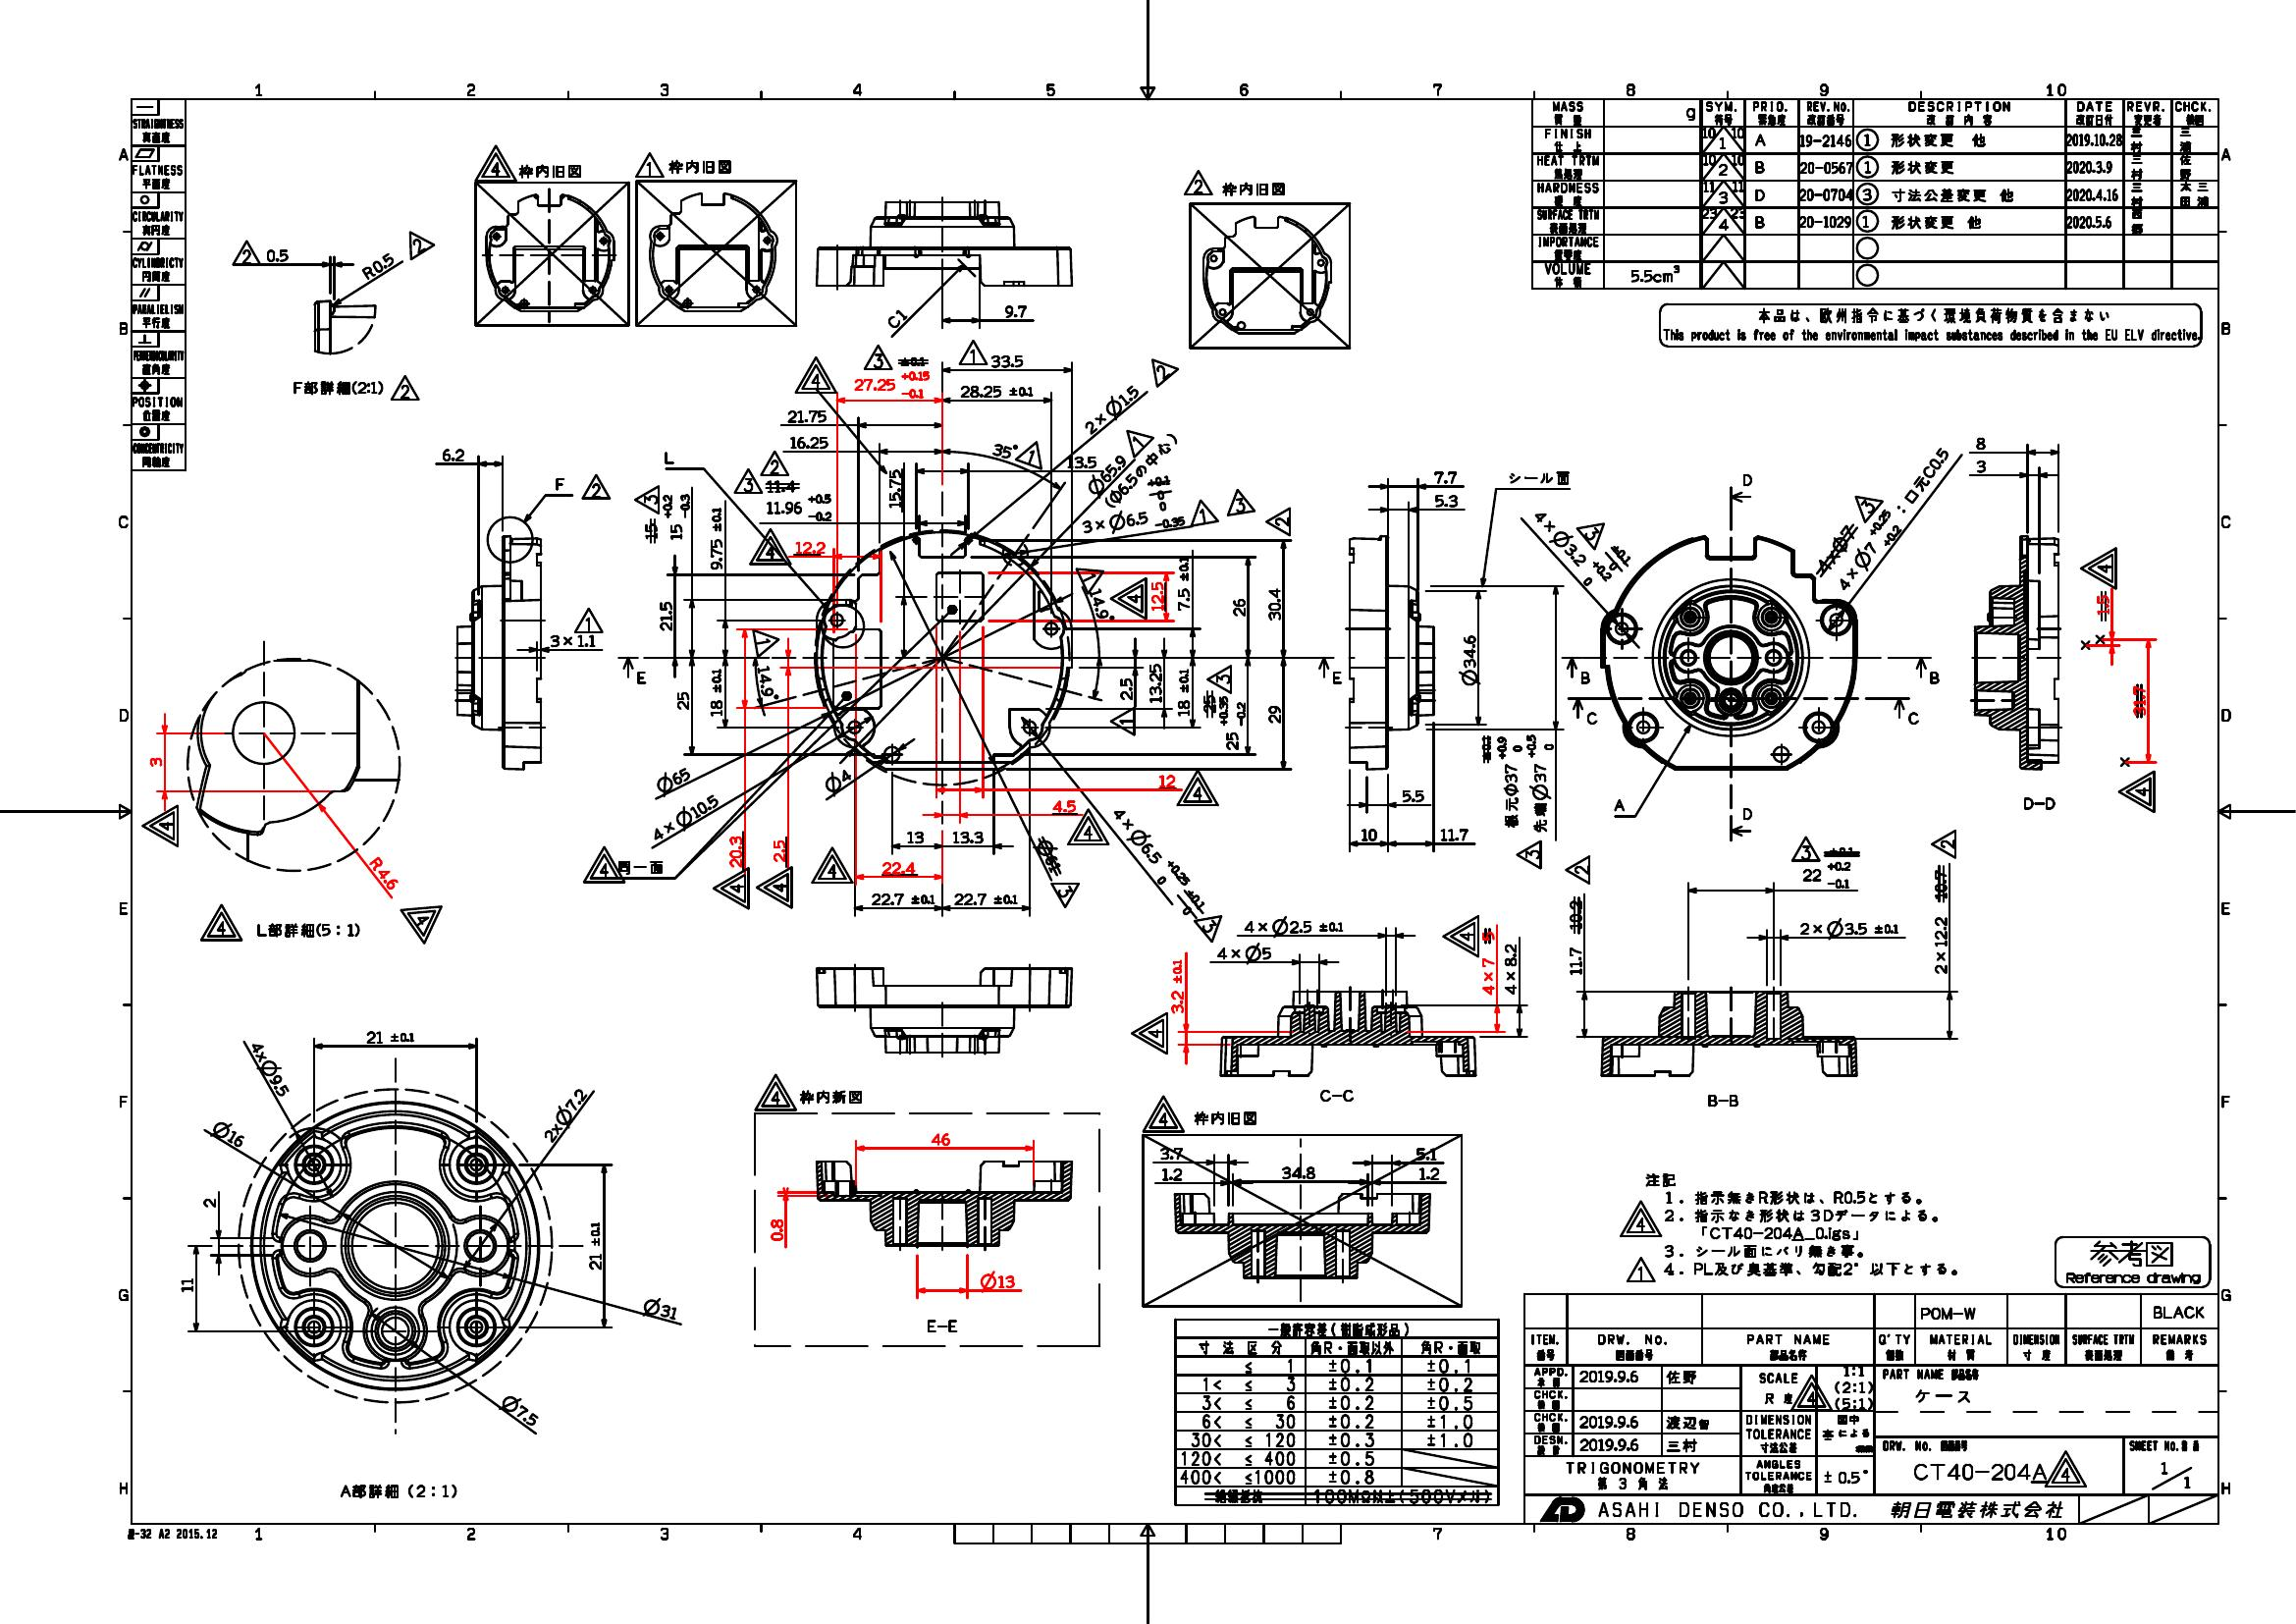anntotation_text: (1618, 1171, 1959, 1285), (1658, 302, 2203, 346), (2054, 1236, 2212, 1287), (337, 1480, 457, 1501), (255, 919, 362, 942), (1138, 1095, 1189, 1135), (1126, 1011, 1170, 1056), (791, 355, 838, 395), (197, 902, 244, 942), (578, 845, 627, 884), (1091, 460, 1189, 480), (137, 805, 179, 849), (2117, 768, 2157, 814), (2078, 545, 2119, 591), (290, 378, 383, 397), (1439, 914, 1481, 956), (1065, 807, 1108, 847), (1108, 576, 1149, 620), (747, 527, 792, 566), (1173, 772, 1221, 808), (755, 865, 794, 909), (711, 866, 750, 910), (473, 142, 516, 181), (401, 905, 444, 944), (808, 847, 854, 884), (1504, 466, 1572, 489), (123, 1526, 220, 1541), (755, 1074, 796, 1111), (1221, 178, 1284, 199), (796, 1088, 864, 1107), (1193, 1109, 1258, 1128), (515, 162, 583, 179), (1047, 881, 1082, 910), (755, 448, 791, 478), (1203, 661, 1233, 696), (631, 483, 662, 515), (632, 149, 666, 179), (571, 606, 606, 634), (857, 343, 892, 371), (1513, 838, 1542, 870), (1562, 852, 1592, 884), (1788, 833, 1820, 863), (1848, 489, 1880, 518), (731, 466, 762, 496), (1144, 353, 1175, 383), (1261, 504, 1291, 536), (1929, 826, 1957, 859), (956, 337, 989, 366), (1117, 424, 1151, 452), (1014, 439, 1047, 468), (666, 160, 733, 174), (228, 237, 262, 265), (408, 228, 436, 262), (386, 374, 422, 401), (1196, 909, 1226, 939), (1107, 705, 1137, 735), (1182, 169, 1214, 197), (580, 473, 613, 499), (1579, 517, 1609, 545), (1075, 566, 1103, 596), (754, 626, 782, 656), (1223, 489, 1254, 515), (1186, 499, 1217, 524), (617, 859, 664, 875), (924, 1316, 959, 1336), (1318, 1086, 1356, 1104), (1702, 1091, 1739, 1109), (2020, 796, 2057, 812), (1583, 708, 1599, 729), (1903, 708, 1920, 726), (659, 448, 676, 466), (550, 473, 566, 492), (1328, 668, 1344, 685), (1927, 668, 1941, 687), (632, 668, 646, 687), (1611, 796, 1625, 812), (1579, 668, 1592, 685), (1741, 471, 1753, 489), (1741, 807, 1753, 819)
dimension_text: (1080, 504, 1188, 534), (1493, 731, 1525, 830), (1818, 536, 1917, 568), (1525, 731, 1555, 833), (1520, 534, 1621, 564), (1096, 835, 1202, 863), (854, 369, 931, 401), (1242, 916, 1347, 939), (1797, 916, 1901, 937), (766, 490, 834, 522), (1214, 696, 1247, 752), (659, 492, 694, 543), (1801, 859, 1852, 891), (646, 807, 722, 828), (1212, 940, 1272, 965), (1456, 631, 1483, 685), (870, 888, 936, 909), (532, 1104, 597, 1125), (1077, 397, 1147, 417), (957, 381, 1033, 399), (704, 506, 724, 573), (1894, 464, 1960, 483), (237, 1058, 302, 1077), (952, 889, 1019, 907), (1931, 910, 1948, 975), (362, 1026, 416, 1046), (1170, 958, 1188, 1016), (977, 1267, 1015, 1294), (708, 664, 726, 721), (495, 1401, 546, 1420), (884, 464, 905, 510), (362, 861, 404, 884), (1082, 464, 1131, 483), (1173, 666, 1193, 715), (1175, 554, 1191, 613), (1502, 942, 1520, 995), (747, 673, 787, 696), (780, 406, 831, 424), (587, 1220, 604, 1271), (652, 768, 694, 789), (787, 432, 831, 452), (1145, 661, 1165, 705), (548, 631, 596, 649), (641, 1297, 680, 1318), (211, 1123, 248, 1144), (822, 768, 856, 791), (655, 598, 675, 634), (878, 858, 919, 875), (1477, 954, 1495, 995), (726, 833, 743, 872), (950, 826, 986, 845), (1265, 587, 1284, 622), (1147, 575, 1165, 613), (1565, 942, 1585, 977), (358, 257, 395, 274), (1065, 452, 1098, 471), (1437, 824, 1470, 844), (989, 352, 1024, 369), (792, 538, 827, 555), (1432, 468, 1462, 487), (1116, 675, 1137, 701), (262, 244, 290, 264), (766, 1216, 787, 1241), (439, 445, 466, 464), (769, 835, 787, 863), (1432, 490, 1460, 508), (1281, 1165, 1316, 1179), (884, 309, 908, 329), (1003, 301, 1029, 318), (1398, 786, 1425, 803), (1156, 1144, 1182, 1162), (1051, 798, 1079, 814), (993, 439, 1017, 457), (673, 687, 690, 712), (1159, 1165, 1184, 1183), (1156, 772, 1179, 789), (1265, 701, 1282, 724), (929, 1128, 952, 1146), (1356, 824, 1377, 842), (1414, 1144, 1437, 1160), (1418, 1165, 1440, 1181), (146, 752, 163, 770), (905, 826, 922, 844), (177, 1274, 195, 1292), (1231, 596, 1245, 617), (200, 1195, 218, 1209), (1975, 434, 1987, 450), (1975, 455, 1985, 473)
object: (249, 1097, 541, 1394), (812, 527, 1073, 789), (1599, 533, 1859, 772), (193, 659, 362, 838), (813, 965, 1073, 1056), (813, 199, 1075, 288), (1599, 990, 1860, 1079), (1217, 990, 1479, 1079), (812, 1160, 1073, 1248), (1172, 1192, 1432, 1280), (1347, 533, 1437, 772), (453, 533, 541, 773), (1973, 533, 2061, 772), (1200, 214, 1337, 336), (483, 192, 615, 315), (645, 192, 776, 315), (307, 297, 376, 353)
title_block: (1520, 1290, 2220, 1526), (1527, 97, 2222, 292), (1172, 1316, 1500, 1508), (128, 97, 188, 473)
